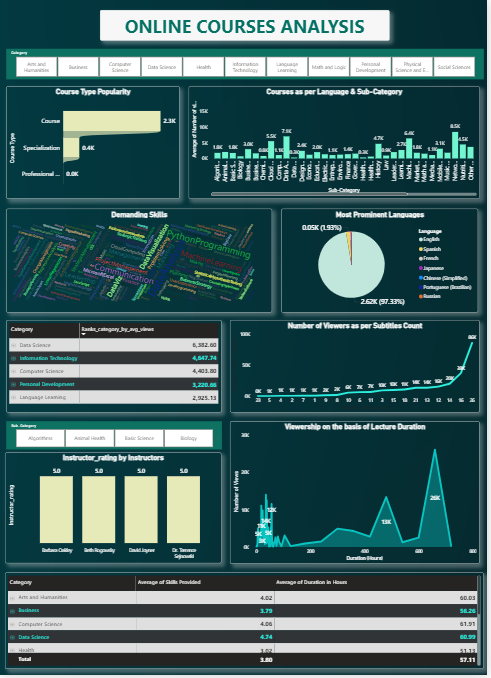

What the dashboard file says about the page in this screenshot:
{"tool":"powerbi","page":{"name":"Page 1","canvas":[1300,1800],"ordinal":0},"visuals":[{"type":"textbox","box":[265,25,771.7,81.7],"z":0},{"type":"slicer","fields":{"Values":["Online_Courses.Category"]},"box":[15,128.3,1273.3,81.7],"z":1000},{"type":"barChart","title":"Course Type Popularity","fields":{"Category":["Online_Courses.Course Type"],"Y":["CountNonNull(Online_Courses.CourseID)"]},"box":[15.5,231,462.1,300],"z":2000},{"type":"columnChart","title":"Courses as per Language & Sub-Category","fields":{"Category":["Online_Courses.Sub-Category","Online_Courses.Language"],"Y":["Avg(Online_Courses.Number of viewers)"]},"box":[501.7,231,775.9,300],"z":3000},{"type":"WordCloud1447959067750","title":"Demanding Skills","fields":{"Category":["Online_Courses.Skills"]},"box":[16,556.8,708.6,276.5],"z":4000},{"type":"pieChart","title":"Most Prominent Languages","fields":{"Category":["Online_Courses.Language"],"Y":["CountNonNull(Online_Courses.CourseID)"]},"box":[750.6,556.8,524.7,276.5],"z":5000},{"type":"pivotTable","fields":{"Rows":["Online_Courses.Category","Online_Courses.Language"],"Values":["Online_Courses.Ranks_category_by_avg_views"]},"box":[15.5,851.7,574.1,246.6],"z":6000},{"type":"lineChart","title":"Number of Viewers as per Subtitles Count","fields":{"Y":["Avg(Online_Courses.Number of viewers)"],"Category":["Online_Courses.Subtitles_language_count"]},"box":[612.1,851.7,665.5,246.6],"z":7000},{"type":"clusteredColumnChart","fields":{"Category":["Teachers list.Instructors"],"Y":["Teachers list.Instructor_rating"]},"box":[13.3,1206.7,576.7,295.6],"z":8000},{"type":"slicer","fields":{"Values":["Teachers list.Sub-Category"]},"box":[15.6,1122.2,575.6,75.6],"z":9000},{"type":"stackedAreaChart","title":"Viewership on the basis of Lecture Duration","fields":{"Category":["Online_Courses.Duration in Hours"],"Y":["Avg(Online_Courses.Number of viewers)"]},"box":[612.2,1122.2,665.6,380],"z":10000},{"type":"pivotTable","fields":{"Rows":["Online_Courses.Category","Online_Courses.Sub-Category"],"Values":["Avg(Online_Courses.Skills Provided)","Avg(Online_Courses.Duration in Hours)"]},"box":[13.3,1527.8,1276.7,256.7],"z":11000}]}

Visuals, with their boxes in screenshot pixels (x1, y1, x2, y2), scaled from the page's 1300x1800 canvas onto the 491x678 screenshot:
textbox: {"left": 100, "top": 9, "right": 392, "bottom": 40}
slicer - Online_Courses.Category: {"left": 6, "top": 48, "right": 487, "bottom": 79}
"Course Type Popularity" barChart: {"left": 6, "top": 87, "right": 180, "bottom": 200}
"Courses as per Language & Sub-Category" columnChart: {"left": 189, "top": 87, "right": 483, "bottom": 200}
"Demanding Skills" WordCloud1447959067750: {"left": 6, "top": 210, "right": 274, "bottom": 314}
"Most Prominent Languages" pieChart: {"left": 283, "top": 210, "right": 482, "bottom": 314}
pivotTable - Online_Courses.Category x Online_Courses.Language: {"left": 6, "top": 321, "right": 223, "bottom": 414}
"Number of Viewers as per Subtitles Count" lineChart: {"left": 231, "top": 321, "right": 483, "bottom": 414}
clusteredColumnChart - Teachers list.Instructors x Teachers list.Instructor_rating: {"left": 5, "top": 455, "right": 223, "bottom": 566}
slicer - Teachers list.Sub-Category: {"left": 6, "top": 423, "right": 223, "bottom": 451}
"Viewership on the basis of Lecture Duration" stackedAreaChart: {"left": 231, "top": 423, "right": 483, "bottom": 566}
pivotTable - Online_Courses.Category x Online_Courses.Sub-Category: {"left": 5, "top": 575, "right": 487, "bottom": 672}
